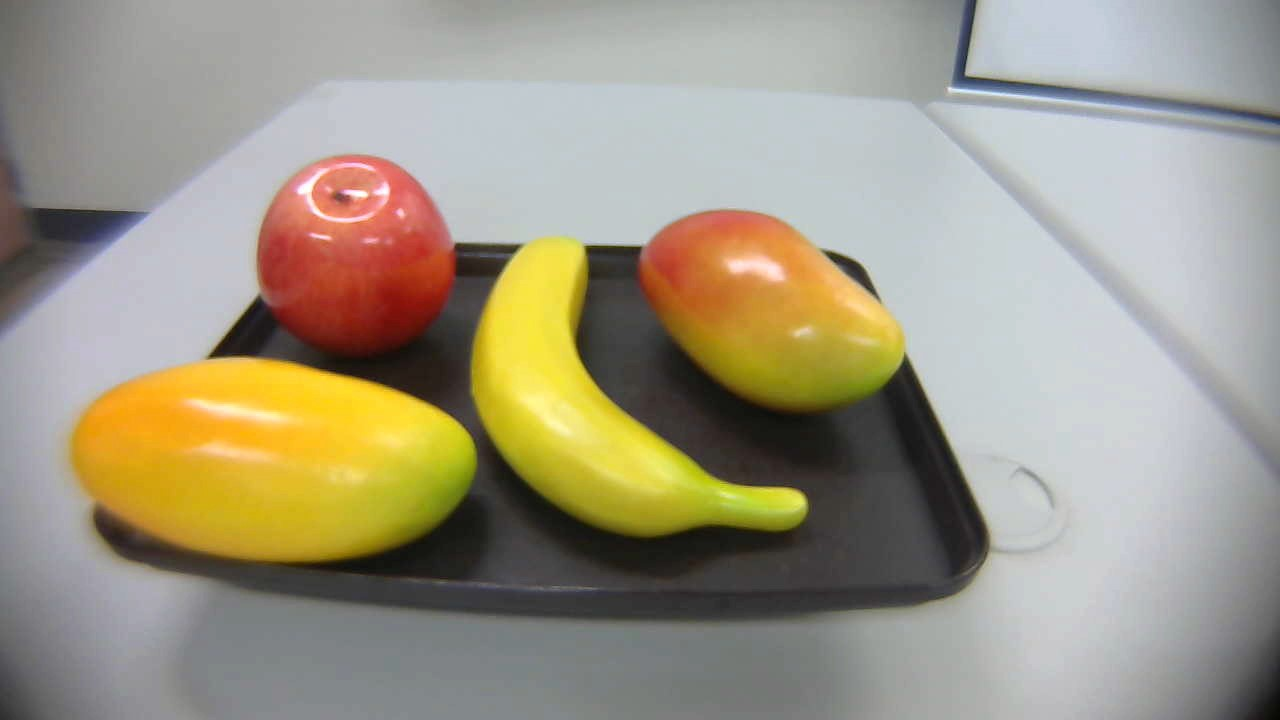banana: (460, 224, 828, 558)
red apple: (253, 149, 458, 358)
red mango: (635, 206, 910, 439)
yellow mango: (68, 348, 483, 586)
